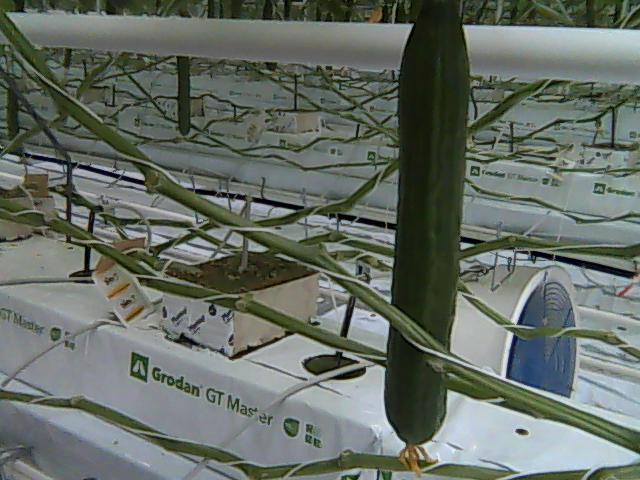concombre: (382, 3, 475, 476)
